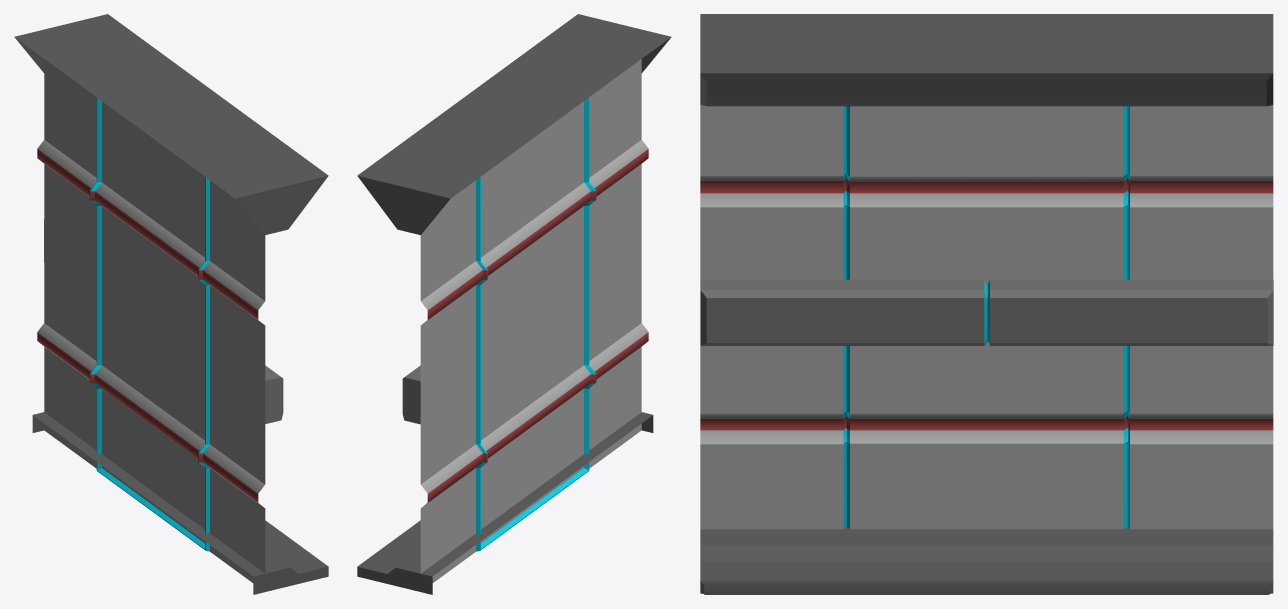
File: SM_Module_04.fbx
3 renders of one model, left to right at view 1: azimuth 30°, elevation 25°; view 2: azimuth 150°, elevation 25°; view 3: azimuth 270°, elevation 25°, orthographic. The views are drawn at different scales.
Parts seen in each view (by area): view 1: SM_Module_04; view 2: SM_Module_04; view 3: SM_Module_04.
Part boxes in pixels (x1,y1,x2,y2): SM_Module_04: (14,14,328,594); SM_Module_04: (357,14,671,594); SM_Module_04: (700,14,1273,594).
Size of the model in its own units: 149 by 601 by 600.
